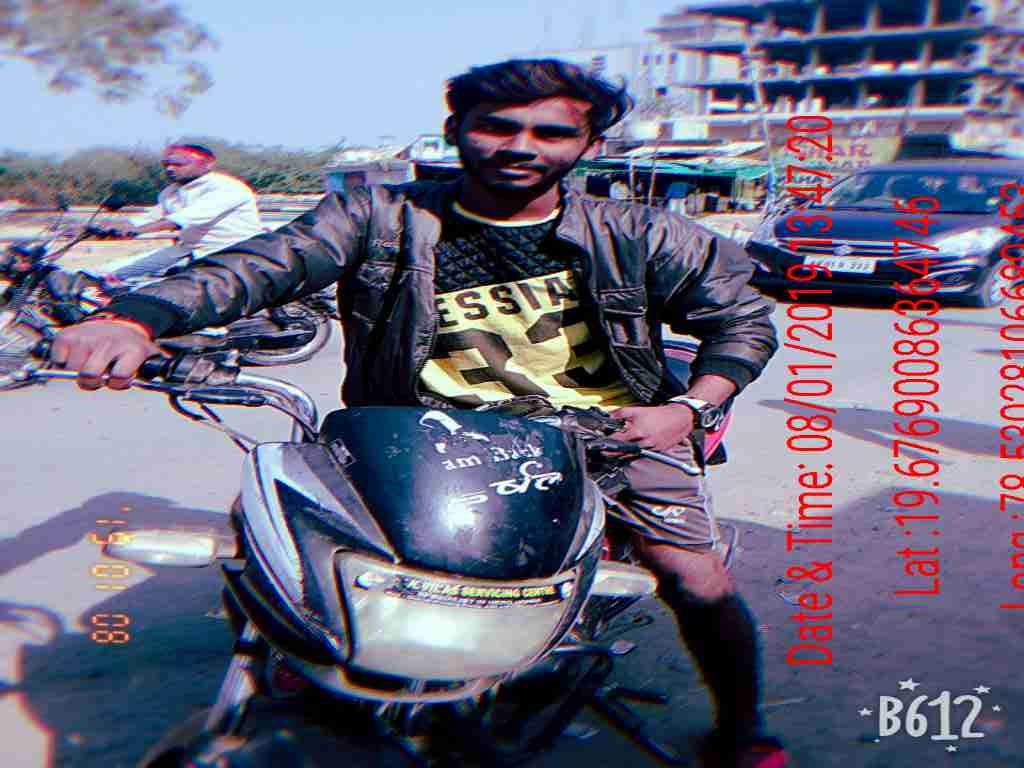plate: (801, 255, 879, 272)
